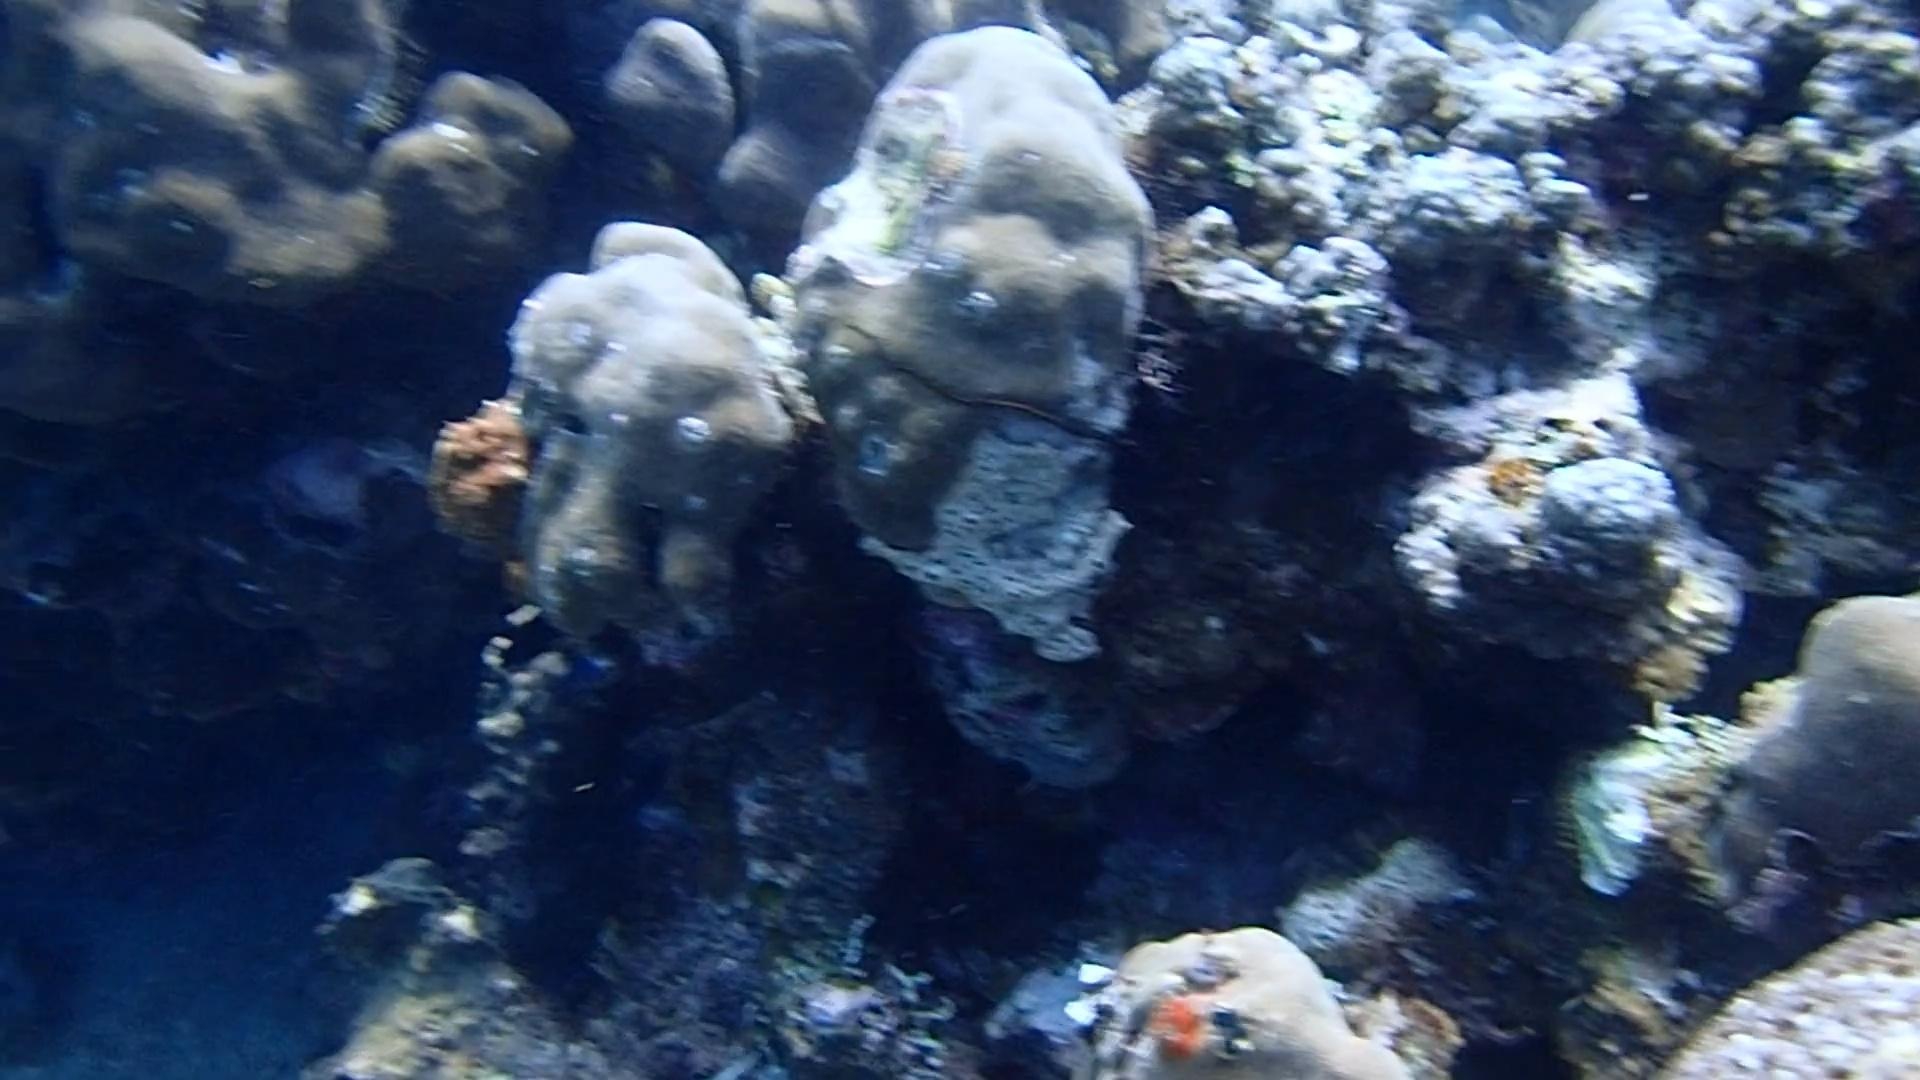Dark Fish: (487, 597, 570, 686)
